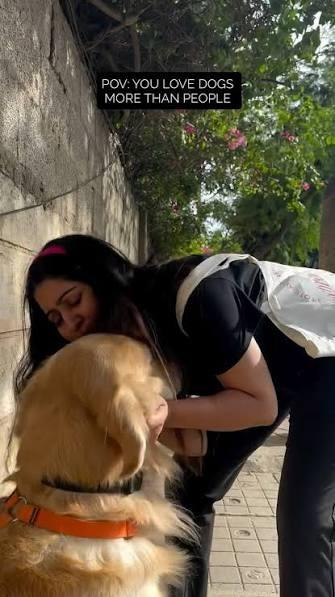adult_dog: (0, 332, 189, 597)
non-dog: (12, 235, 335, 596)
